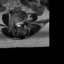CCS_normal: (17, 20, 20, 28)
LFS_normal: (22, 18, 24, 25)
LLS_normal: (20, 20, 22, 27)
RFS_normal: (13, 20, 16, 27)
RLS_normal: (16, 21, 18, 27)
